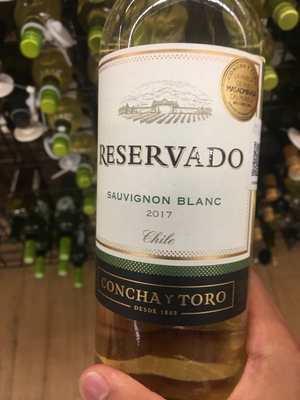reservado sauvignon blanc: (96, 12, 266, 379)
